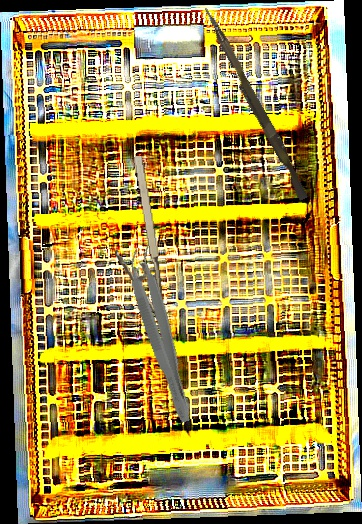Needle Holder: (103, 155, 171, 347)
Pusher: (195, 5, 314, 202)
Tissue Forceps: (120, 242, 205, 426)
